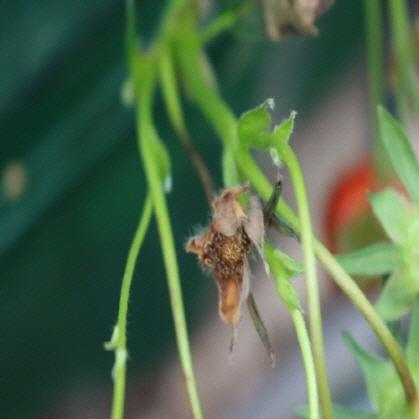Gray Mold: (182, 179, 268, 356)
